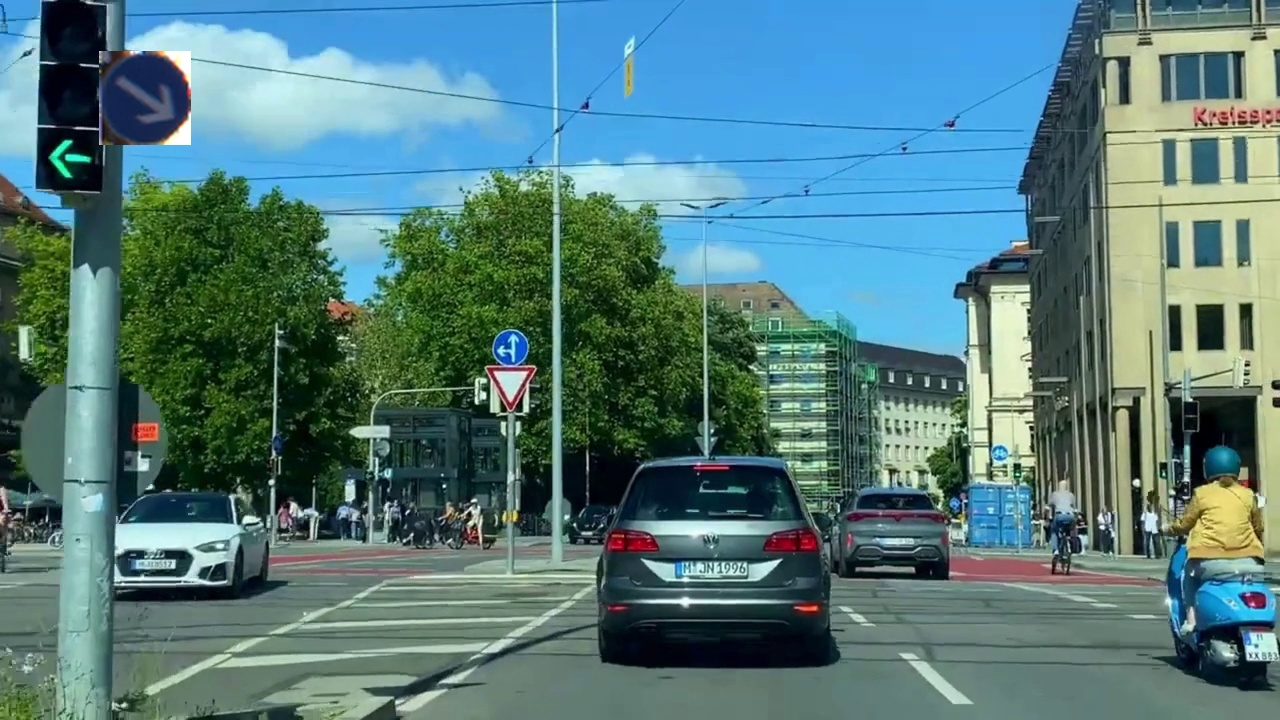Keep right: (99, 51, 191, 145)
